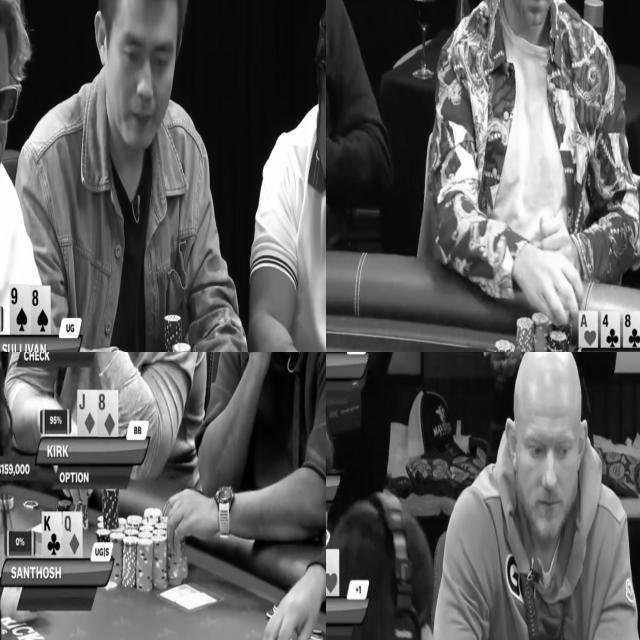4C: (601, 310, 620, 348)
4H: (326, 550, 340, 596)
8C: (624, 311, 640, 348)
8D: (98, 390, 119, 437)
8S: (31, 287, 49, 334)
9S: (11, 284, 29, 335)
AH: (579, 310, 598, 348)
JD: (77, 390, 98, 437)
KC: (42, 512, 62, 556)
QD: (62, 512, 82, 556)
